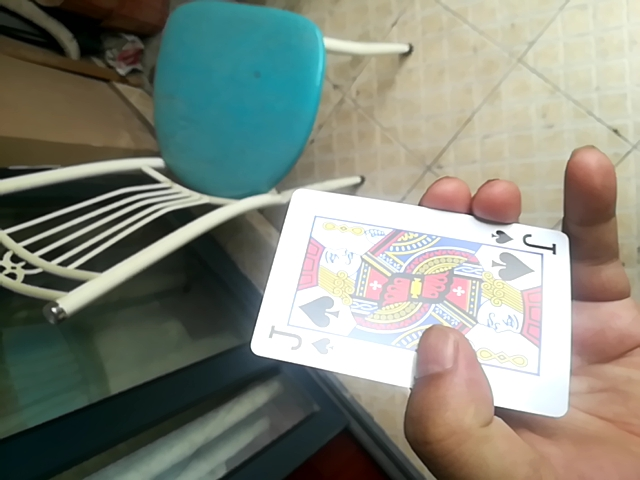ht j: (250, 189, 572, 416)
